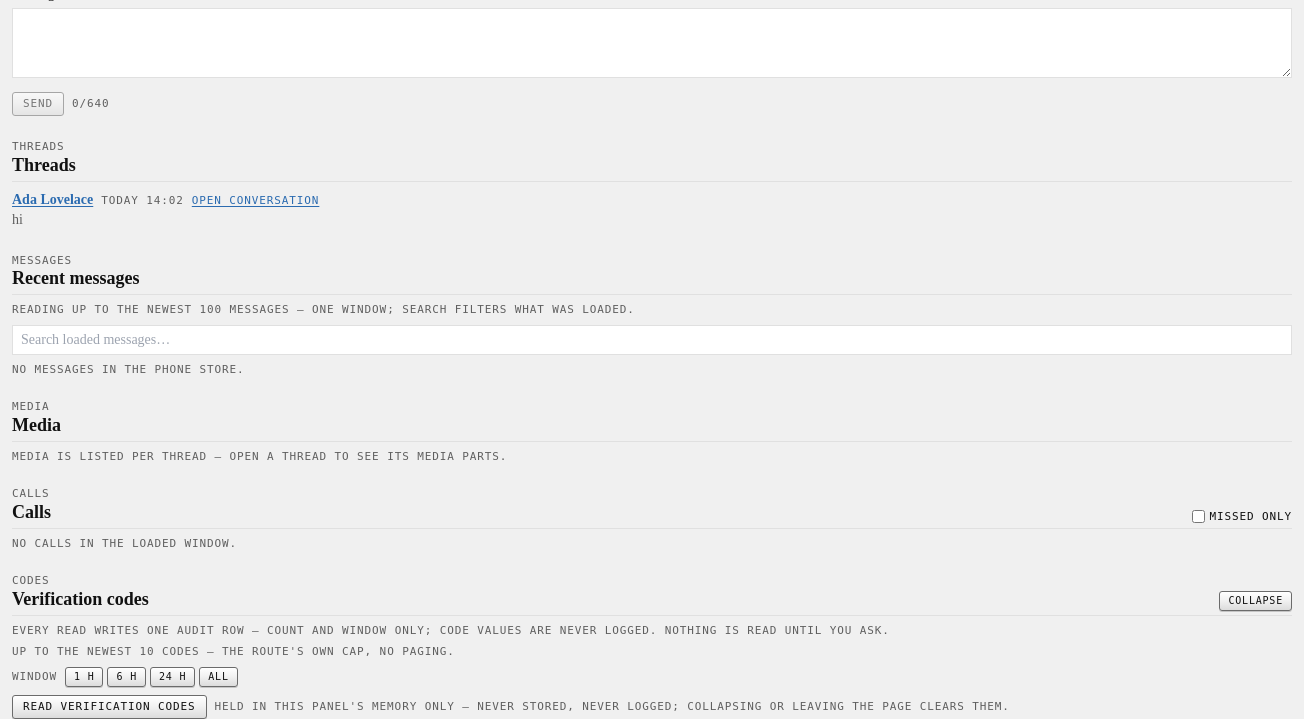
Test: codes panel — masking, reveal, copy › collapsing CLEARS every held code (keyboard Escape, then Expand is idle)
(page scrolled)
Click the button with test id "phone-codes-read".
click(109, 707)  # box [12,695,207,718]
(page scrolled)
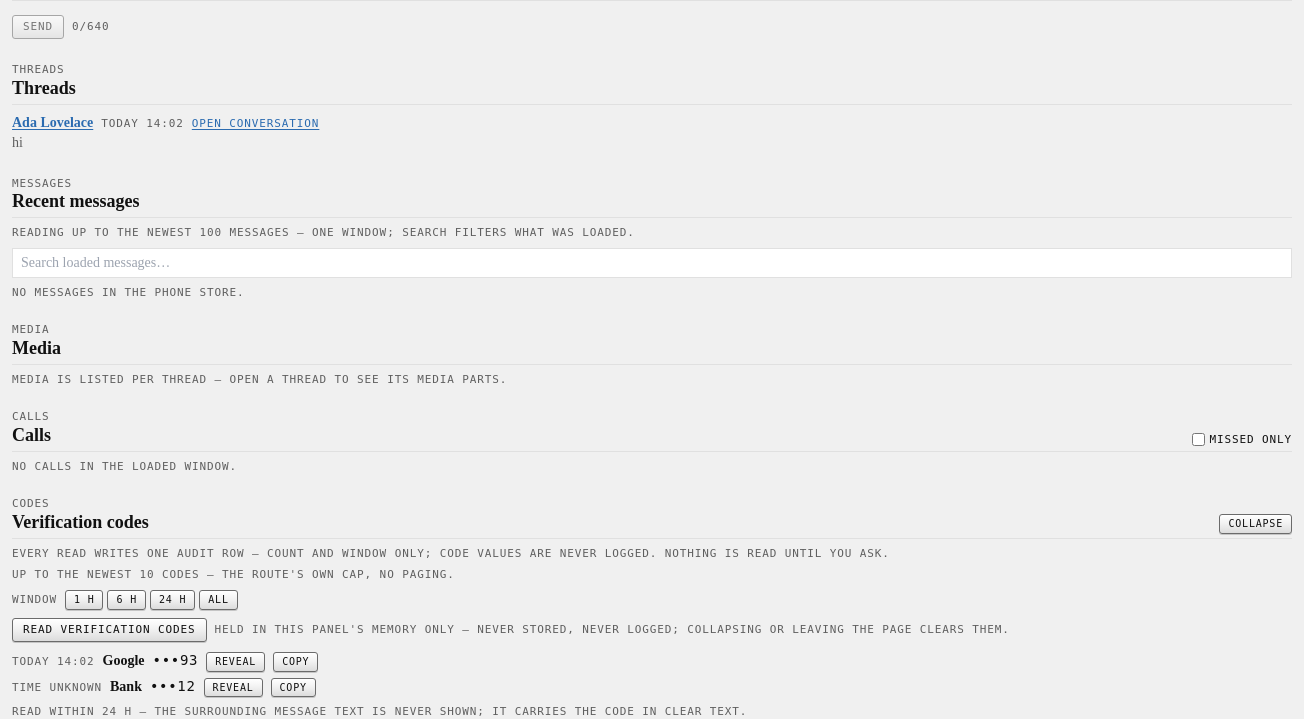
Press Escape in the text with test id "phone-code-value" showing "•••93", box [152,650,198,670]
(page scrolled)
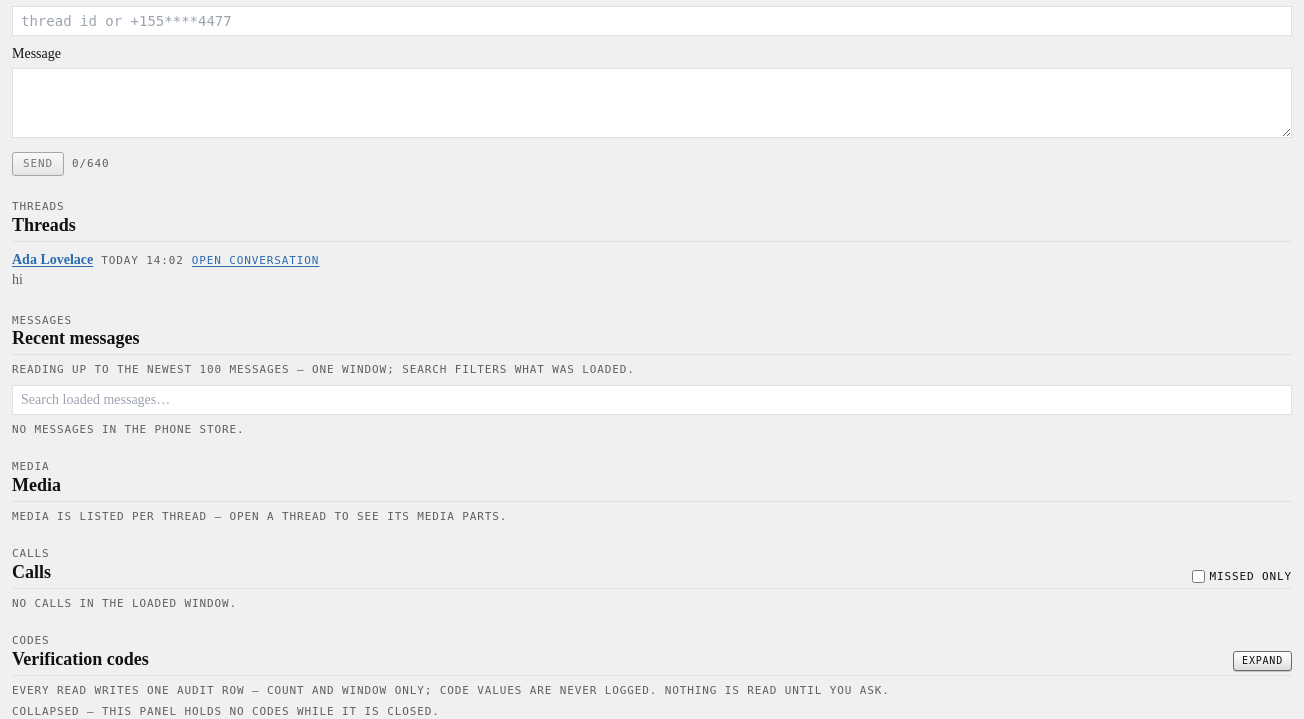
Check: the text "Collapsed — this panel holds no codes while it is closed." is shown, box [12,705,440,718]
Check: the list item with test id "phone-code-row" is gone
Check: the button with test id "phone-codes-read" is gone
Click the button with test id "phone-codes-toggle".
click(1263, 661)  # box [1233,651,1292,671]
(page scrolled)
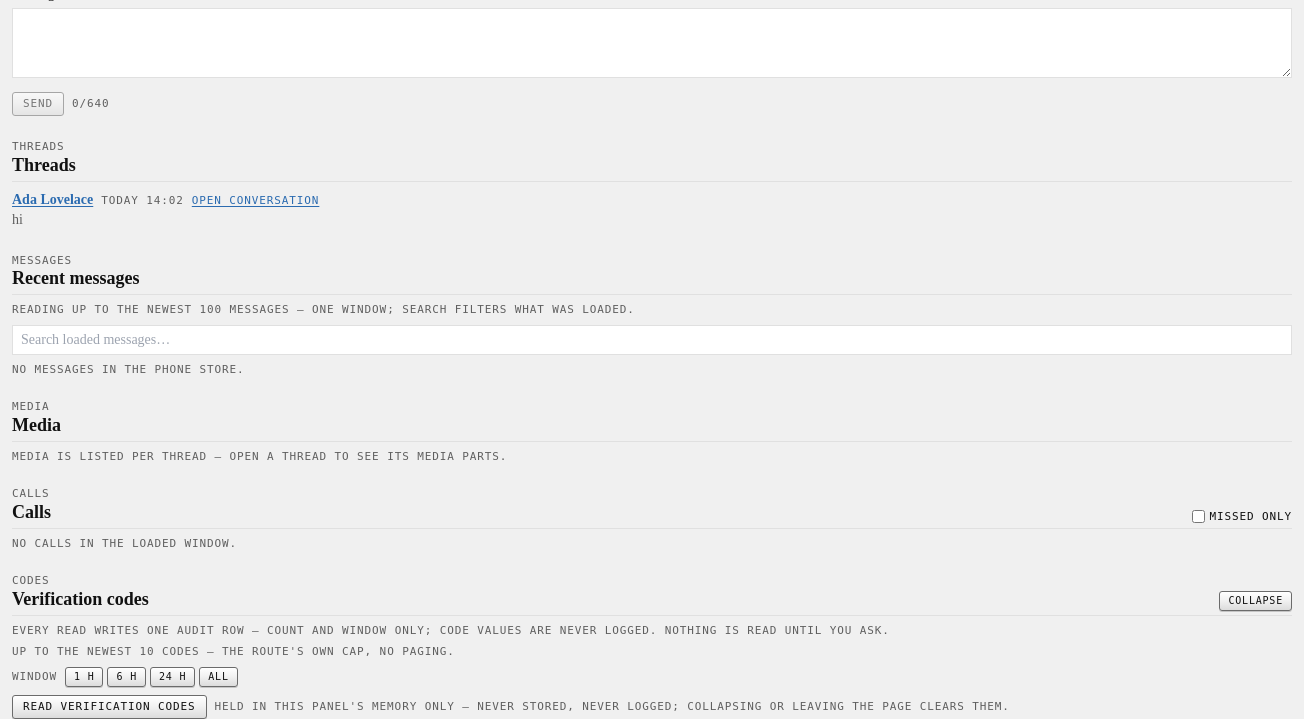
Check: the button with test id "phone-codes-read" is shown, box [12,695,207,718]
